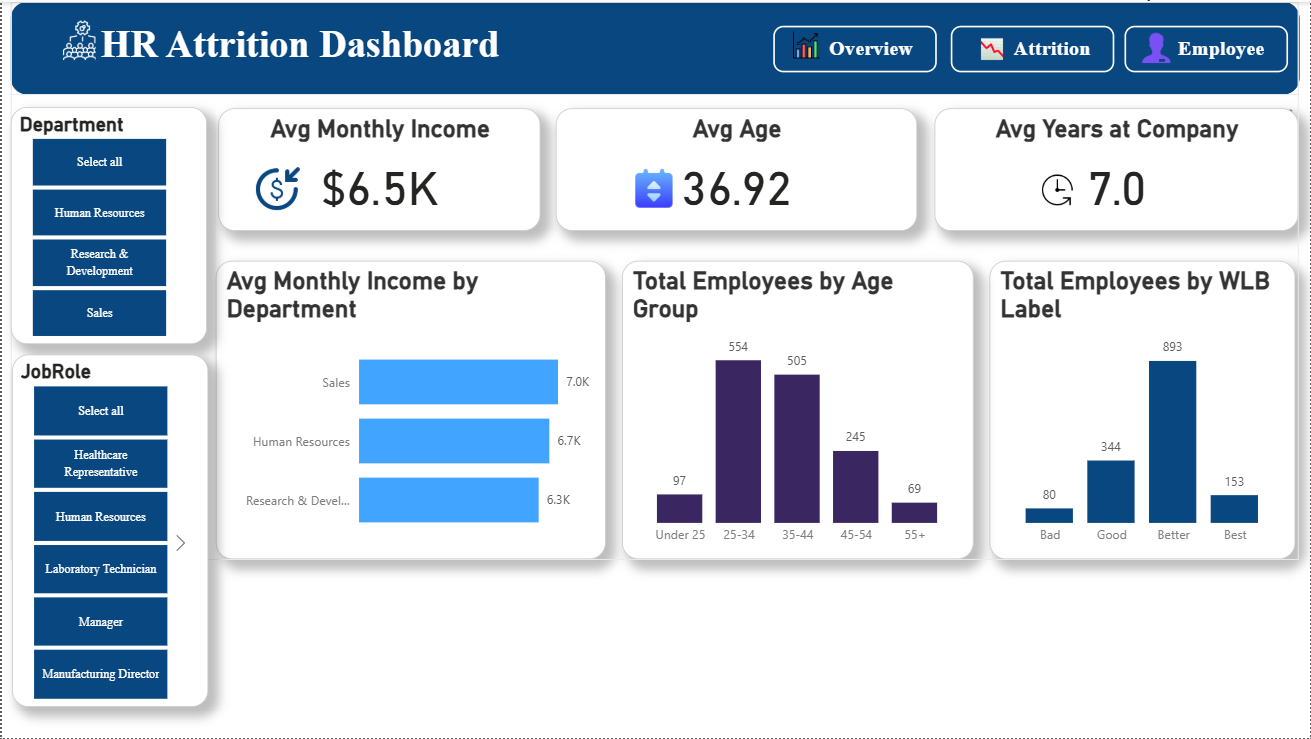

The page's visual inventory and layout, read from the dashboard file:
{"tool":"powerbi","page":{"name":"Dashboard","canvas":[1280,720],"ordinal":0},"visuals":[{"type":"textbox","box":[9.8,0,1259.5,90],"z":0},{"type":"clusteredBarChart","fields":{"Category":["WA_Fn-UseC_-HR-Employee-Attrition.Department"],"Y":["WA_Fn-UseC_-HR-Employee-Attrition.Avg Monthly Income"]},"box":[209.7,253.1,381.5,292.3],"z":0,"group":"g1"},{"type":"clusteredColumnChart","fields":{"Y":["WA_Fn-UseC_-HR-Employee-Attrition.Total Employees"],"Category":["WA_Fn-UseC_-HR-Employee-Attrition.WLB Label"]},"box":[966.6,253.1,299.6,292.3],"z":1000,"group":"g1"},{"type":"clusteredColumnChart","fields":{"Category":["WA_Fn-UseC_-HR-Employee-Attrition.Age Group"],"Y":["WA_Fn-UseC_-HR-Employee-Attrition.Total Employees"]},"box":[607.1,253.1,343.6,292.3],"z":2000,"group":"g1"},{"type":"group","id":"g1","title":"Group Employee","box":[8.6,0,1260.7,545.4],"z":3000},{"type":"textbox","box":[8.6,0,1260.7,90.5],"z":3000,"group":"g1"},{"type":"actionButton","box":[754.5,23.2,160.2,45.2],"z":5000},{"type":"card","title":"Avg Monthly Income","fields":{"Values":["WA_Fn-UseC_-HR-Employee-Attrition.Avg Monthly Income"]},"box":[212.1,103.9,315.5,119.8],"z":6000,"group":"g1"},{"type":"actionButton","box":[928.1,23.2,160.2,45.2],"z":7000},{"type":"image","box":[239,148,61.1,69.7],"z":7000,"group":"g1"},{"type":"card","title":"Avg Age","fields":{"Values":["WA_Fn-UseC_-HR-Employee-Attrition.Avg Age"]},"box":[542.3,103.9,353.4,119.8],"z":8000,"group":"g1"},{"type":"actionButton","box":[1098.1,23.2,160.2,45.2],"z":9000},{"type":"image","box":[609.5,148,57.5,70.9],"z":9000,"group":"g1"},{"type":"card","title":"Avg Years at Company","fields":{"Values":["Avg(WA_Fn-UseC_-HR-Employee-Attrition.Avg Years at Company)"]},"box":[912.8,103.9,355.8,119.8],"z":10000,"group":"g1"},{"type":"image","box":[764.3,23.2,45.2,37.9],"z":11000},{"type":"image","box":[986.2,162.6,92.9,42.8],"z":11000,"group":"g1"},{"type":"image","box":[948.9,25.7,39.1,40.4],"z":13000},{"type":"image","box":[1104.2,23.2,48.9,44],"z":15000},{"type":"image","box":[47.7,6.1,62.4,62.4],"z":17000},{"type":"textbox","box":[101.8,14.7,420.7,62.4],"z":19000},{"type":"textbox","box":[92,14.7,420.7,62.4],"z":20000},{"type":"slicer","fields":{"Values":["WA_Fn-UseC_-HR-Employee-Attrition.Department"]},"box":[8.6,102.7,192,232.3],"z":22000},{"type":"slicer","fields":{"Values":["WA_Fn-UseC_-HR-Employee-Attrition.JobRole"]},"box":[9.8,344.8,192,344.8],"z":24000}]}

Visuals, with their boxes in screenshot pixels (x1, y1, x2, y2), scaled from the page's 1280x720 canvas onto the 1311x739 screenshot:
textbox: 10/0/1300/92
clusteredBarChart - WA_Fn-UseC_-HR-Employee-Attrition.Department x WA_Fn-UseC_-HR-Employee-Attrition.Avg Monthly Income: 215/260/606/560
clusteredColumnChart - WA_Fn-UseC_-HR-Employee-Attrition.Total Employees x WA_Fn-UseC_-HR-Employee-Attrition.WLB Label: 990/260/1297/560
clusteredColumnChart - WA_Fn-UseC_-HR-Employee-Attrition.Age Group x WA_Fn-UseC_-HR-Employee-Attrition.Total Employees: 622/260/974/560
"Group Employee" group: 9/0/1300/560
textbox: 9/0/1300/93
actionButton: 773/24/937/70
"Avg Monthly Income" card: 217/107/540/230
actionButton: 951/24/1115/70
image: 245/152/307/223
"Avg Age" card: 555/107/917/230
actionButton: 1125/24/1289/70
image: 624/152/683/225
"Avg Years at Company" card: 935/107/1299/230
image: 783/24/829/63
image: 1010/167/1105/211
image: 972/26/1012/68
image: 1131/24/1181/69
image: 49/6/113/70
textbox: 104/15/535/79
textbox: 94/15/525/79
slicer - WA_Fn-UseC_-HR-Employee-Attrition.Department: 9/105/205/344
slicer - WA_Fn-UseC_-HR-Employee-Attrition.JobRole: 10/354/207/708
